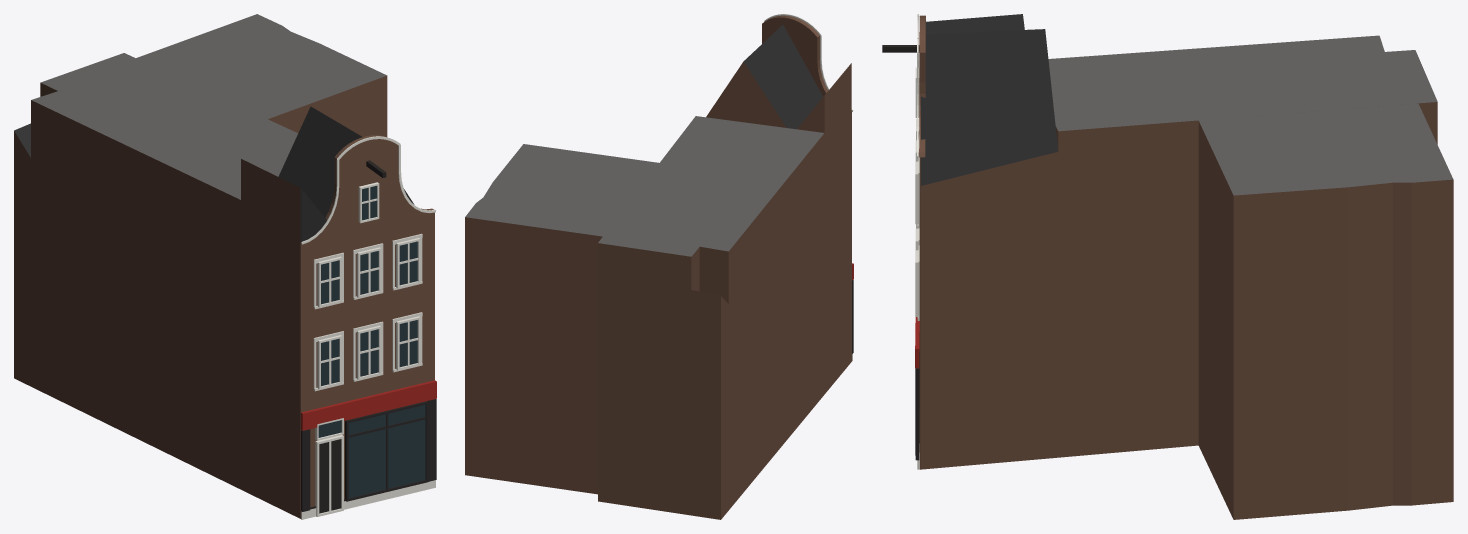
3 renders of one model, left to right at view 1: azimuth 30°, elevation 25°; view 2: azimuth 150°, elevation 25°; view 3: azimuth 270°, elevation 25°, orthographic. The views are drawn at different scales.
Parts seen in each view (by area): view 1: spec-0363100012178396; view 2: spec-0363100012178396; view 3: spec-0363100012178396.
Part boxes in pixels (x1,y1,x2,y2): spec-0363100012178396: [14, 14, 436, 519]; spec-0363100012178396: [465, 14, 853, 519]; spec-0363100012178396: [882, 14, 1453, 519].
Size of the model in its own units: 11.2 by 13.24 by 16.59.
